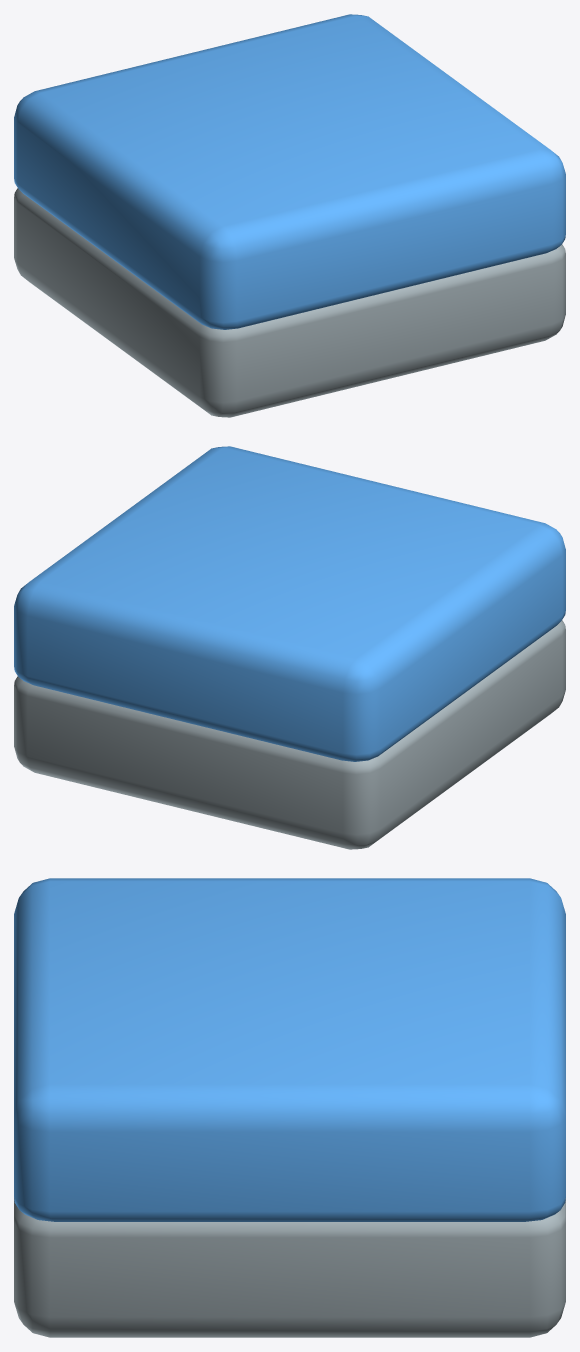
File: tileLow_teamBlue.glb
3 views of the same model, one above another, from view 1: azimuth 30°, elevation 25°; view 2: azimuth 150°, elevation 25°; view 3: azimuth 270°, elevation 25° (orthographic). The views are drawn at different scales.
Visible parts, largest first — view 1: tileLow_teamBlue; view 2: tileLow_teamBlue; view 3: tileLow_teamBlue.
Boxes of the visible parts, x1=… form: tileLow_teamBlue: x1=14, y1=14, x2=565, y2=417; tileLow_teamBlue: x1=14, y1=446, x2=565, y2=849; tileLow_teamBlue: x1=14, y1=878, x2=565, y2=1337.
Bounding box in the file's own units: 0.7 × 0.35 × 0.7.
